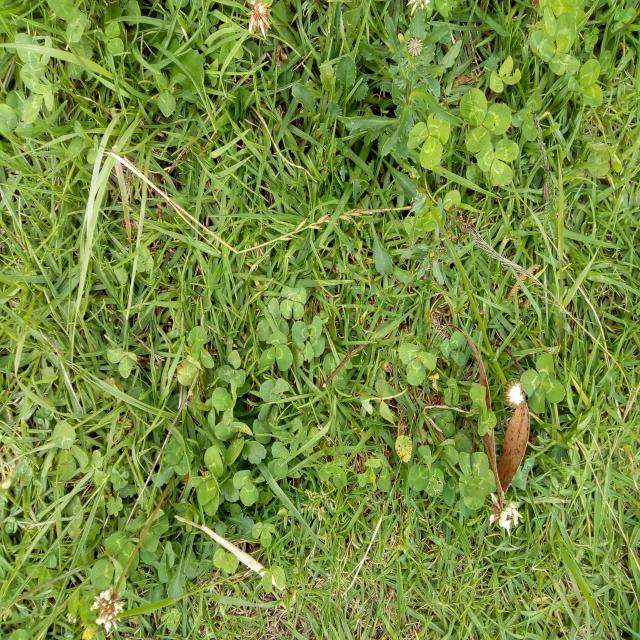Four Leaf Clover: (520, 353, 565, 414), (279, 284, 307, 320)
